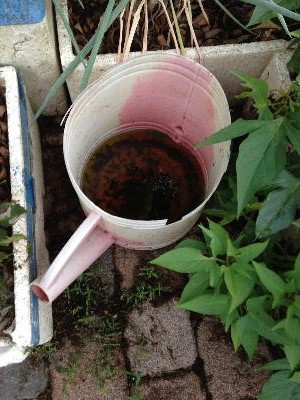bowl: (59, 52, 234, 252)
styrofoam: (52, 1, 295, 102)
